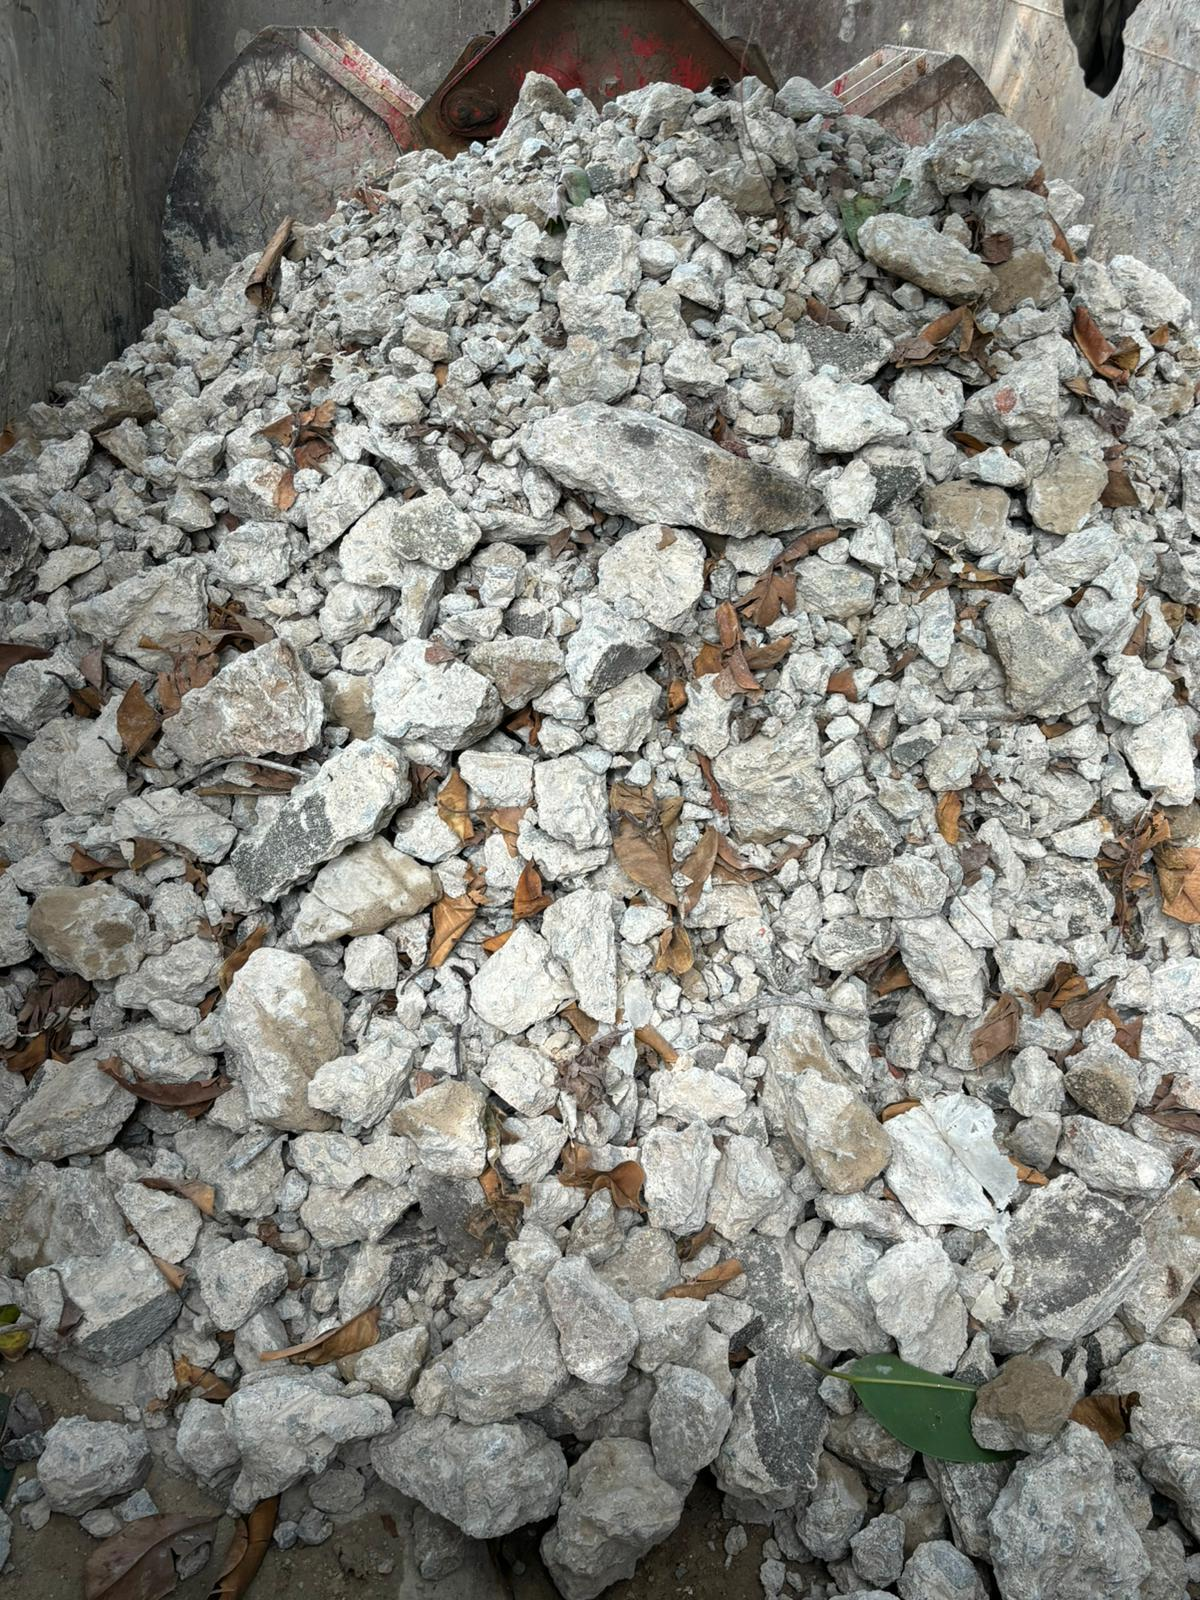dry: (8, 92, 1187, 1580)
